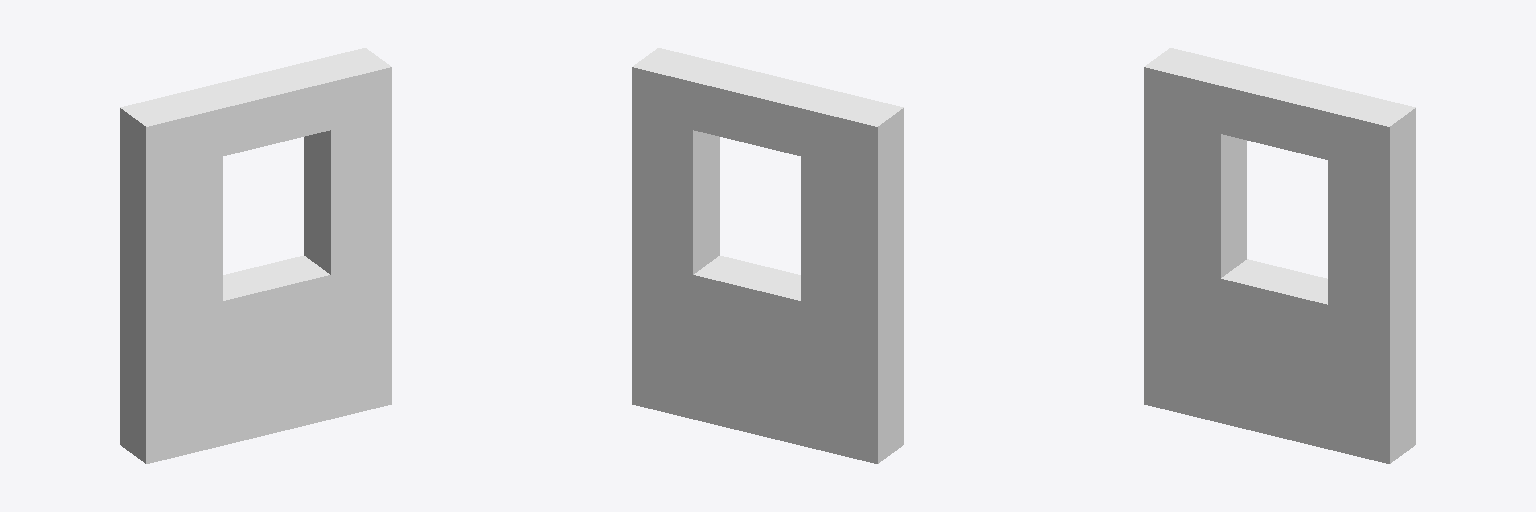
File: wall_window.obj
3 renders of one model, left to right at view 1: azimuth 30°, elevation 25°; view 2: azimuth 150°, elevation 25°; view 3: azimuth 330°, elevation 25°, orthographic.
Parts seen in each view (by area): view 1: object 1; view 2: object 1; view 3: object 1.
Boxes of the visible parts, x1,y1,x2,y2 form: object 1: [120, 48, 391, 463]; object 1: [632, 48, 903, 463]; object 1: [1144, 48, 1415, 463].
Bounding box in the file's own units: 1.6 × 2.1 × 0.3.